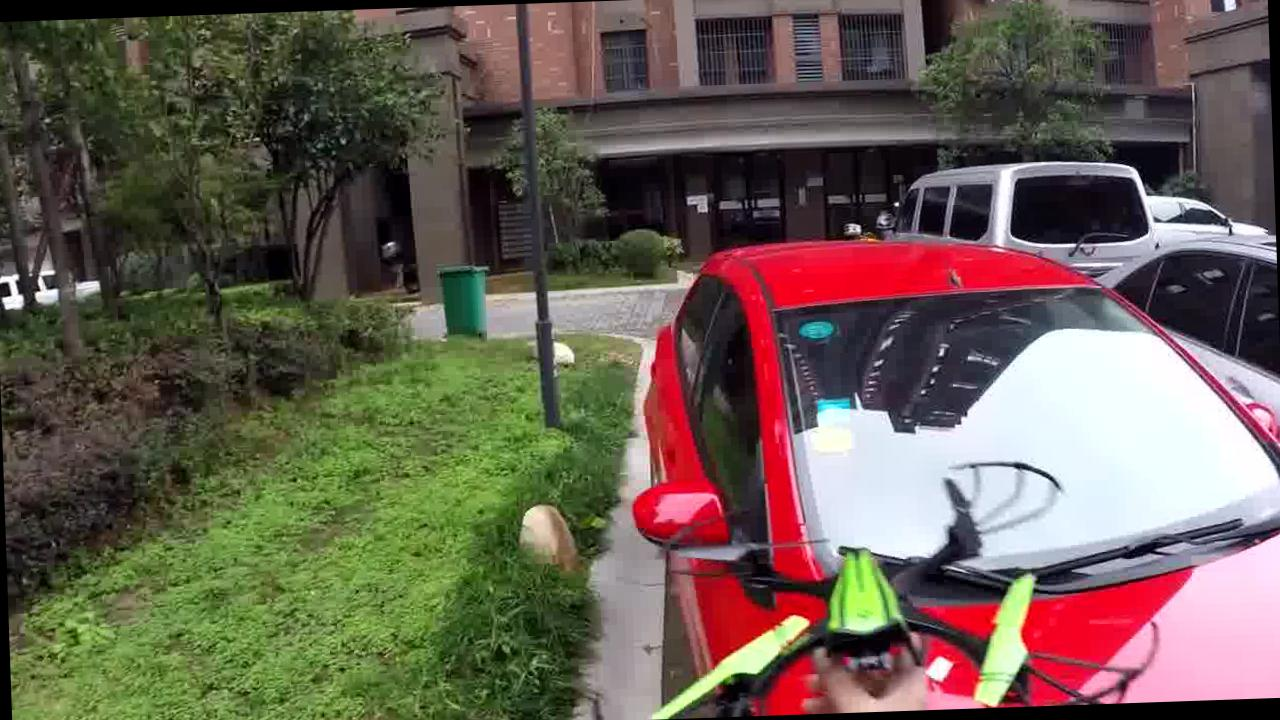drone: (620, 460, 1164, 719)
